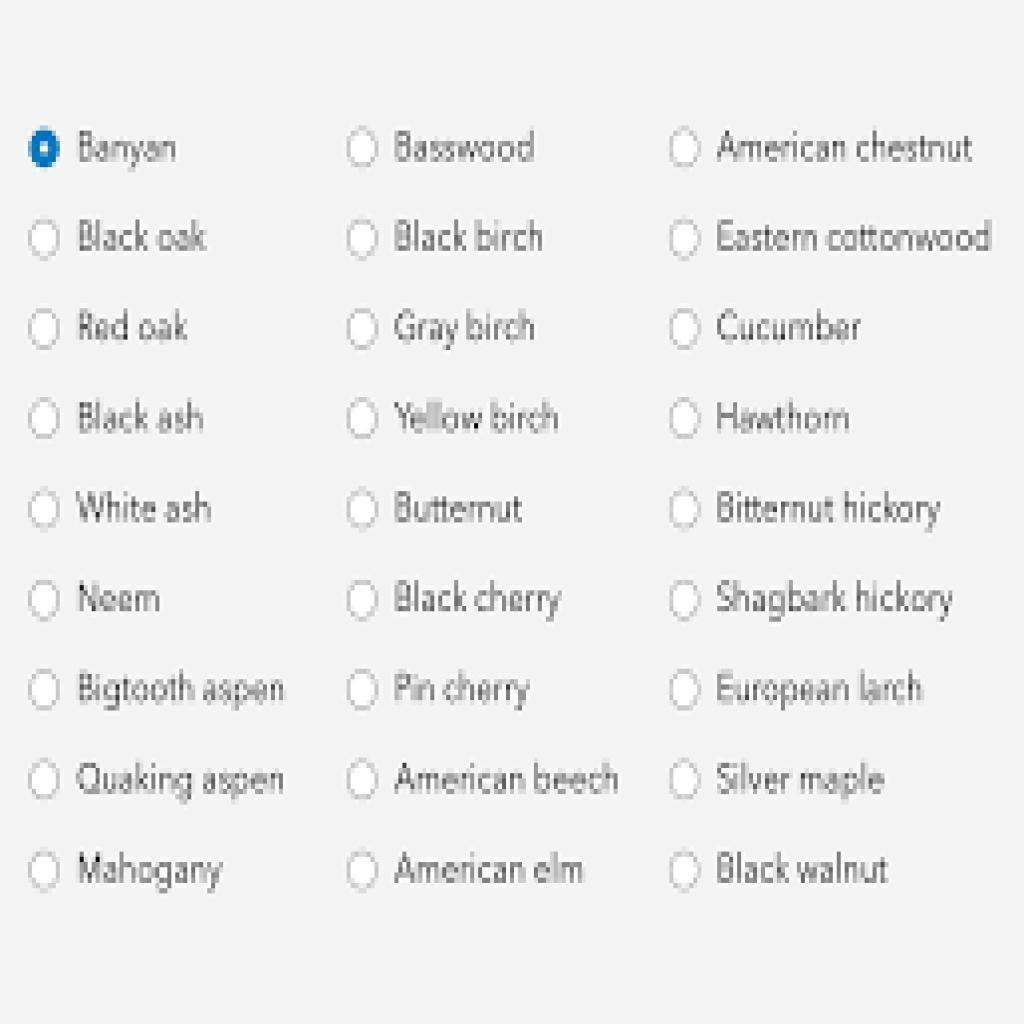radio: (342, 124, 381, 171), (344, 486, 382, 534), (667, 846, 705, 894), (26, 124, 63, 173), (27, 483, 63, 533), (27, 845, 64, 893), (666, 578, 705, 623), (666, 216, 704, 262), (345, 396, 382, 443), (26, 306, 61, 355), (668, 667, 705, 713), (27, 577, 63, 624), (668, 122, 703, 170), (667, 756, 705, 800), (666, 488, 703, 533), (345, 216, 380, 263), (666, 398, 704, 441), (26, 757, 63, 801), (345, 756, 381, 801), (345, 849, 381, 894), (26, 396, 62, 441), (345, 579, 381, 623), (668, 308, 704, 352), (27, 667, 62, 712), (346, 308, 381, 350), (29, 217, 63, 260), (347, 668, 379, 711)
